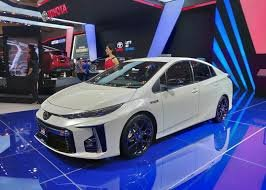mobil: (34, 56, 233, 164)
